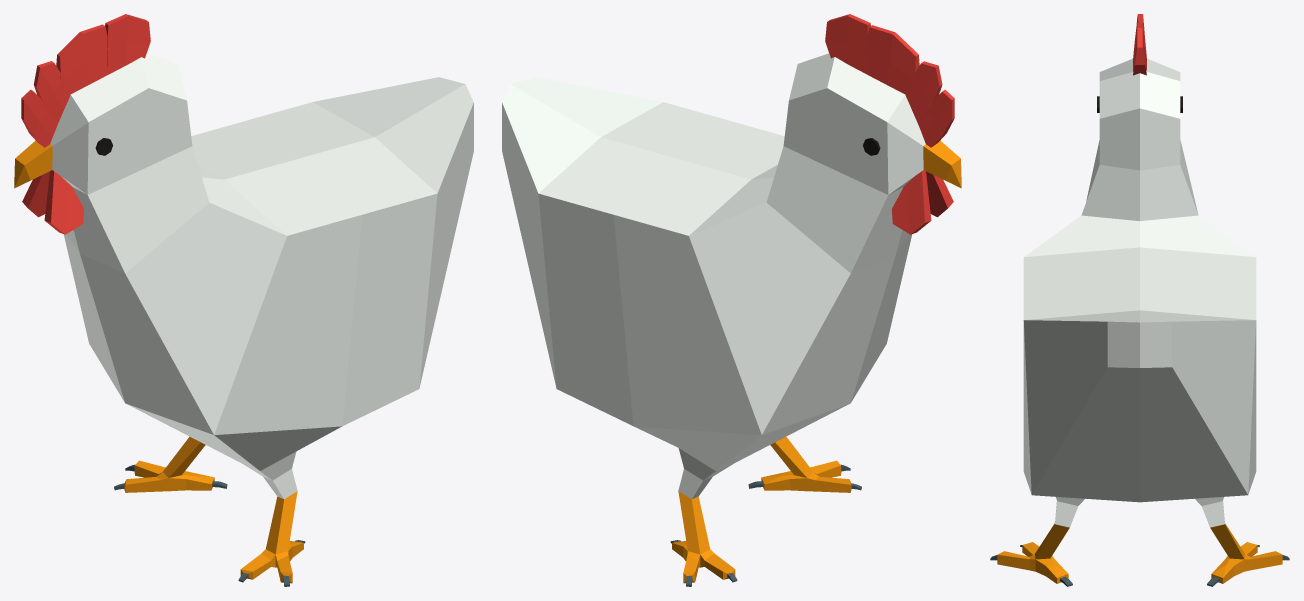
File: chicken.glb
3 views of the same model, side by side, from view 1: azimuth 30°, elevation 25°; view 2: azimuth 150°, elevation 25°; view 3: azimuth 270°, elevation 25° (orthographic). The views are drawn at different scales.
Visible parts, largest first — view 1: Cube.035_Cube.034; view 2: Cube.035_Cube.034; view 3: Cube.035_Cube.034.
Part boxes in pixels (left/top/right/bottom): Cube.035_Cube.034: left=14, top=14, right=473, bottom=586; Cube.035_Cube.034: left=502, top=14, right=961, bottom=586; Cube.035_Cube.034: left=990, top=14, right=1289, bottom=586.
Bounding box in the file's own units: 167 × 189 × 103.
Materials: 1 (1 with a texture image).
